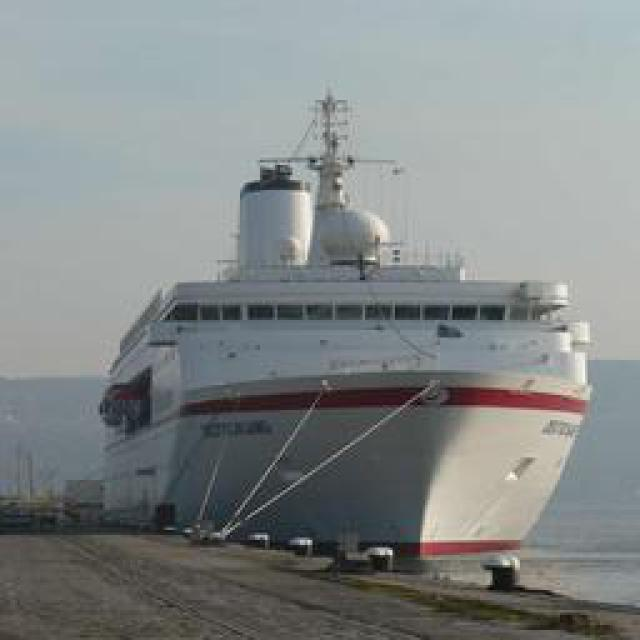Ship: (86, 84, 599, 599)
